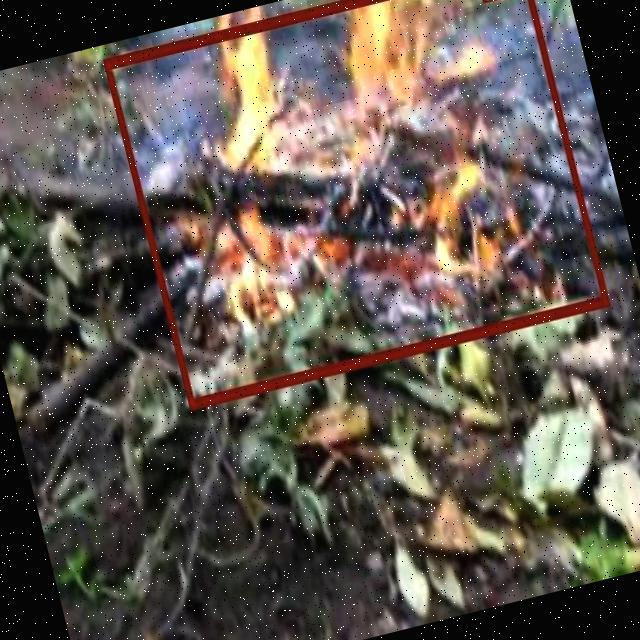fire: (104, 0, 611, 406)
